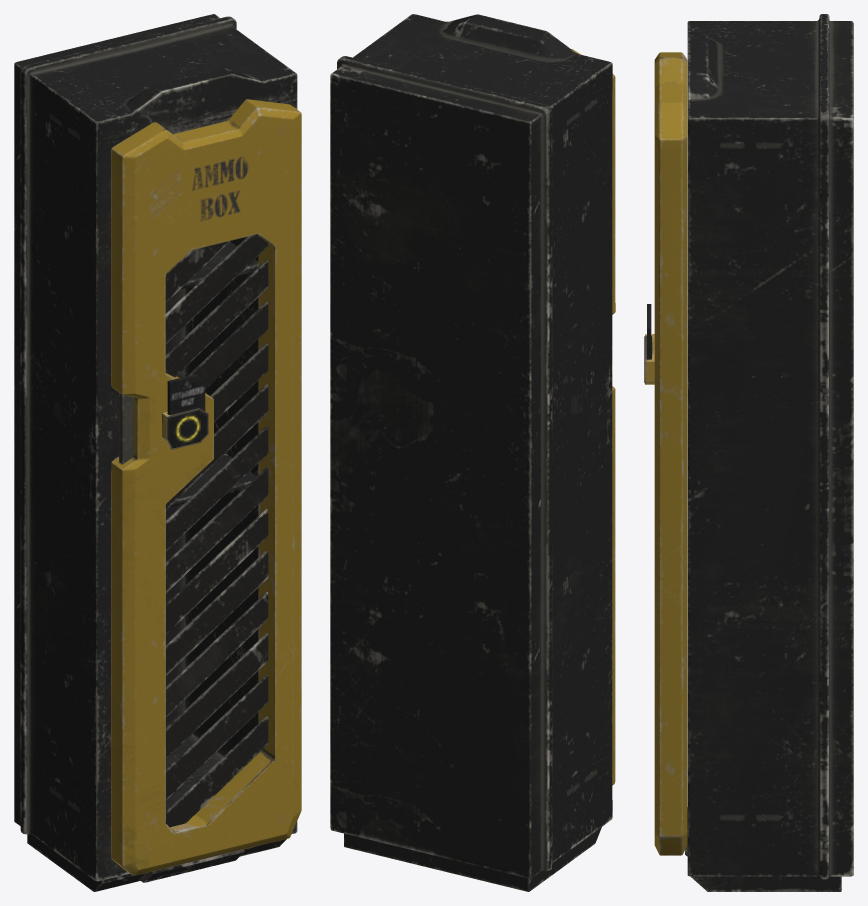
The model's file is ammo_locker.glb.
3 renders of one model, left to right at view 1: azimuth 30°, elevation 25°; view 2: azimuth 150°, elevation 25°; view 3: azimuth 270°, elevation 25°, orthographic.
Parts seen in each view (by area): view 1: container_low, front_frame_low, frame_separator_low, support_low, screen_low, keypad_sensor_low, handle_low, shelf_2_low, shelf_1_low; view 2: container_low, support_low, front_frame_low; view 3: container_low, front_frame_low, support_low.
Boxes of the visible parts, left/top/right/bottom form: container_low: left=14, top=14, right=297, bottom=881; front_frame_low: left=111, top=99, right=301, bottom=875; frame_separator_low: left=165, top=234, right=268, bottom=827; support_low: left=27, top=834, right=286, bottom=891; screen_low: left=167, top=374, right=205, bottom=415; keypad_sensor_low: left=167, top=409, right=207, bottom=448; handle_low: left=119, top=392, right=133, bottom=464; shelf_2_low: left=169, top=453, right=256, bottom=507; shelf_1_low: left=180, top=241, right=258, bottom=289; container_low: left=330, top=14, right=612, bottom=878; support_low: left=344, top=827, right=601, bottom=891; front_frame_low: left=571, top=49, right=615, bottom=785; container_low: left=687, top=14, right=853, bottom=879; front_frame_low: left=654, top=52, right=687, bottom=855; support_low: left=685, top=807, right=841, bottom=891.
Bounding box in the file's own units: 0.5416 × 1.93 × 0.4611.
1 material, 1 textured.
